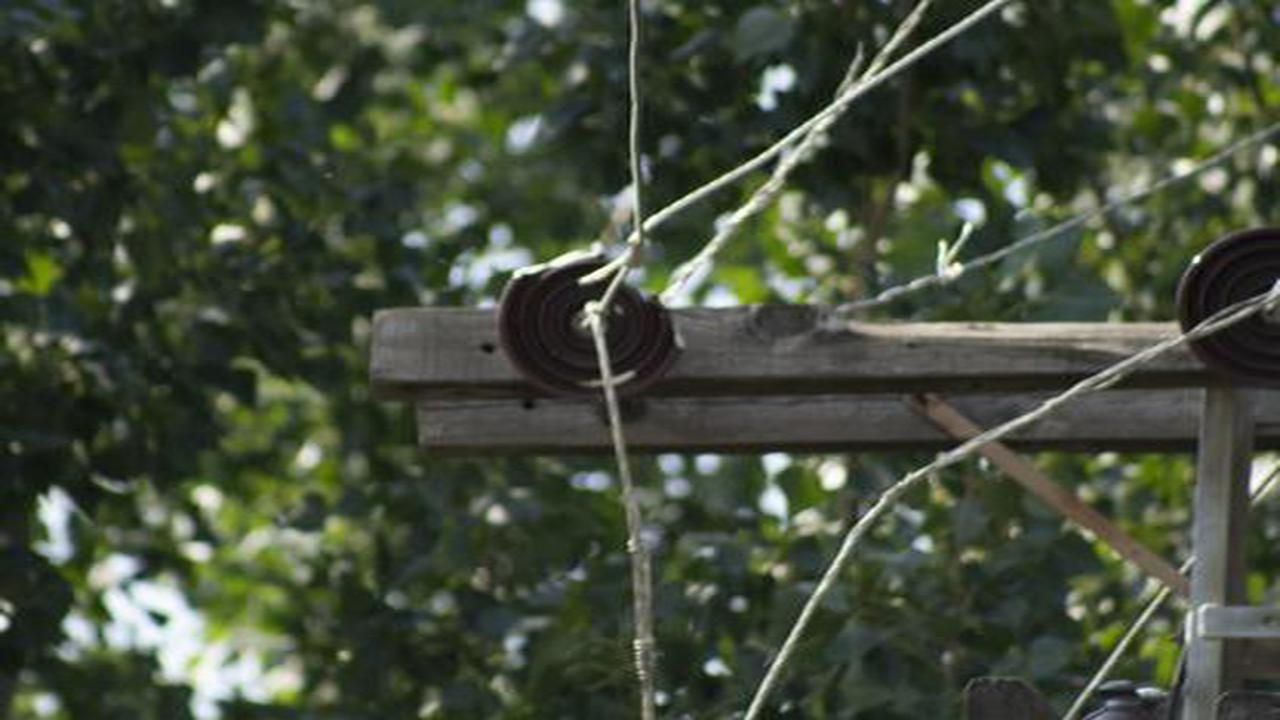defect_disc: (495, 244, 692, 409)
insulator_disc: (1175, 225, 1271, 388)
